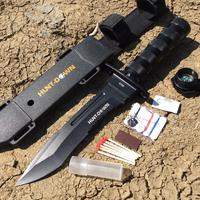knife: (11, 22, 189, 189)
